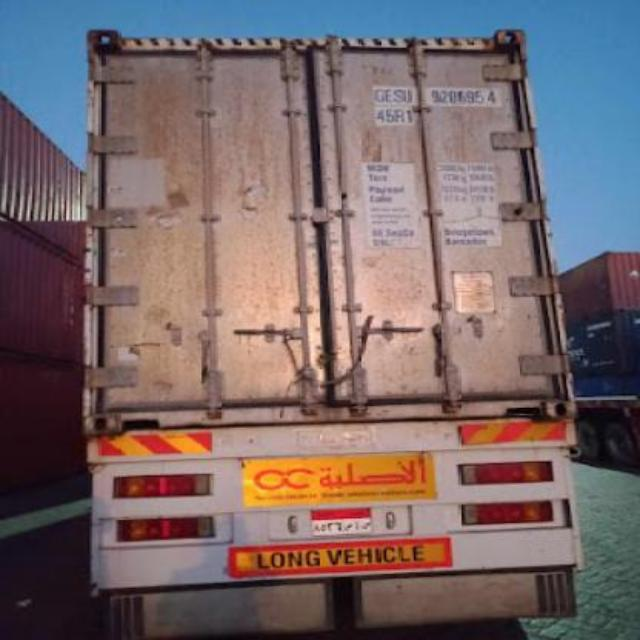0: (448, 90, 458, 106)
2: (440, 92, 448, 105)
4: (488, 92, 500, 105)
5: (474, 92, 486, 105)
6: (458, 90, 466, 104)
9: (430, 90, 440, 104), (468, 92, 476, 105)
E: (386, 90, 394, 102)
G: (376, 90, 384, 102)
S: (394, 90, 404, 104)
U: (402, 90, 414, 102)
